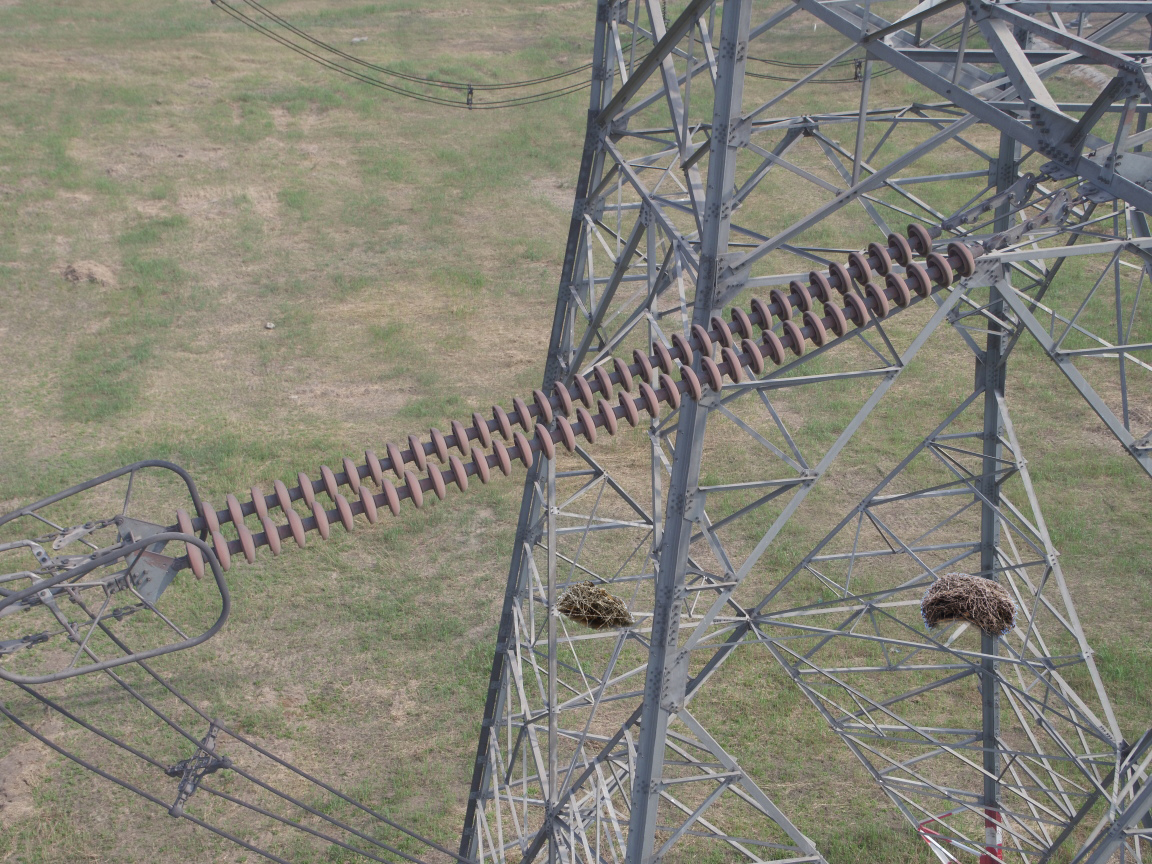nest: (917, 565, 1021, 642), (554, 573, 637, 642)
